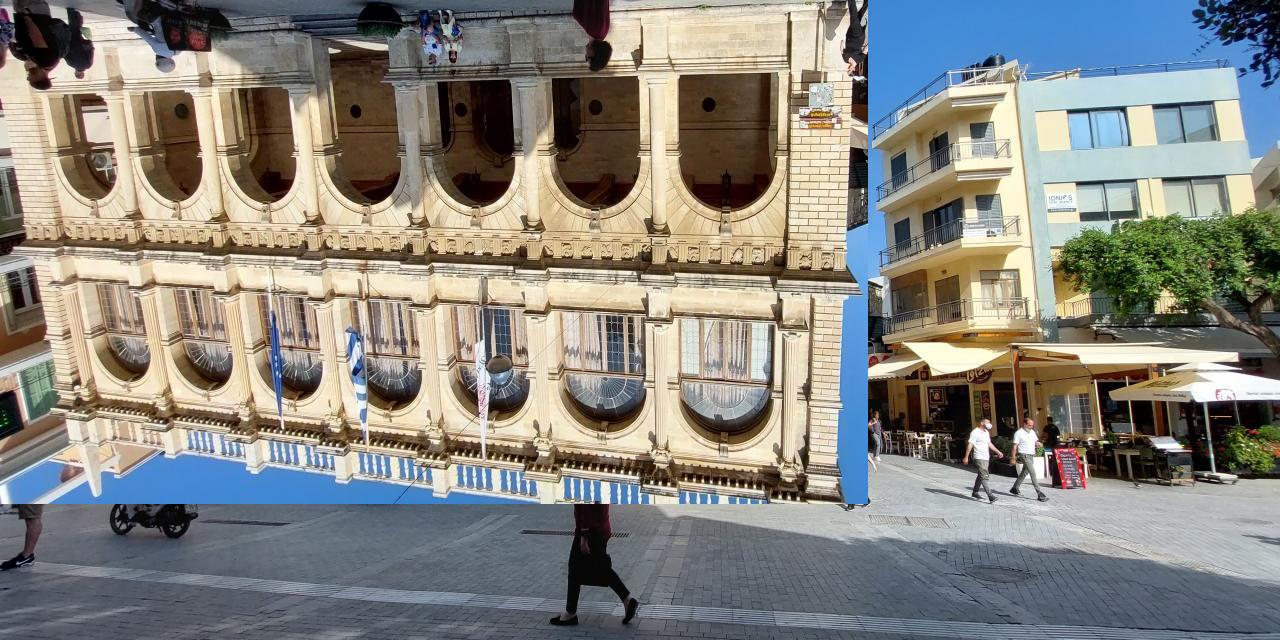Loggia: (1, 1, 869, 505)
